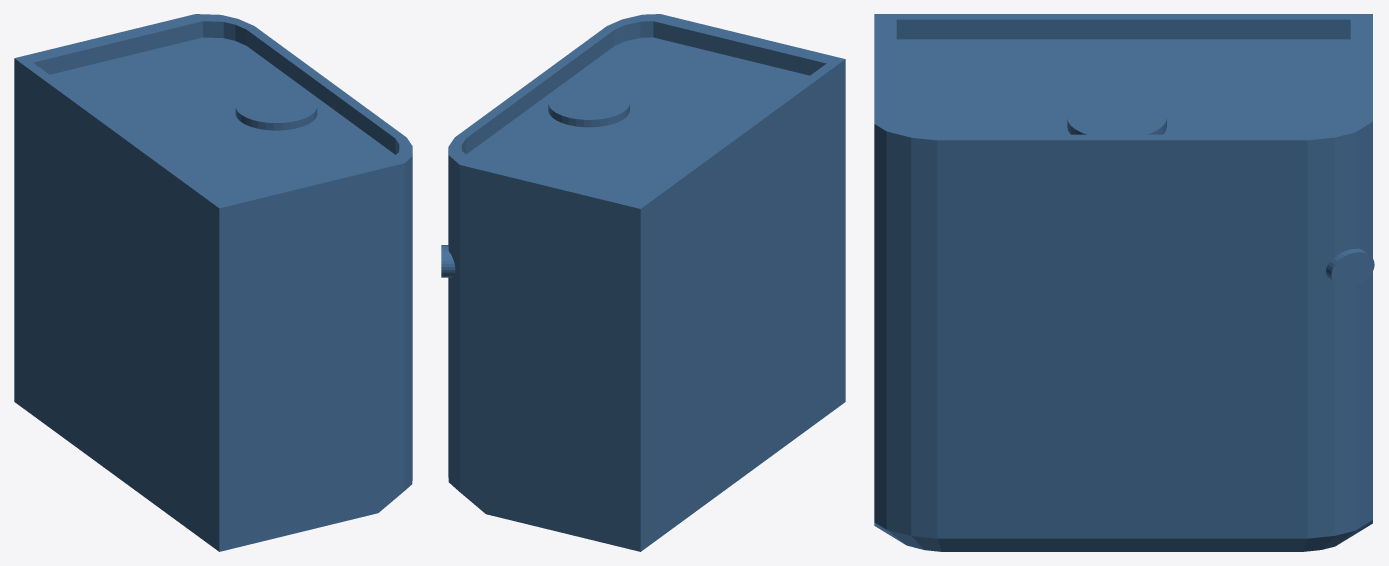
Rendered from sanicondens.glb.
The picture shows the model from 3 angles, left to right: view 1: azimuth 30°, elevation 25°; view 2: azimuth 150°, elevation 25°; view 3: azimuth 270°, elevation 25°; orthographic projection. The views are drawn at different scales.
Parts seen in each view (by area): view 1: Product3, Cylinder; view 2: Product3, Cylinder; view 3: Product3, Cylinder, Cylinder.001.
Boxes of the visible parts, x1,y1,x2,y2 form: Product3: [14, 14, 412, 551]; Cylinder: [235, 88, 317, 130]; Product3: [448, 14, 845, 551]; Cylinder: [548, 85, 629, 127]; Product3: [874, 14, 1372, 551]; Cylinder: [1067, 96, 1166, 134]; Cylinder.001: [1326, 248, 1374, 287].
Bounding box in the file's own units: 1.22 × 1.85 × 2.01.
